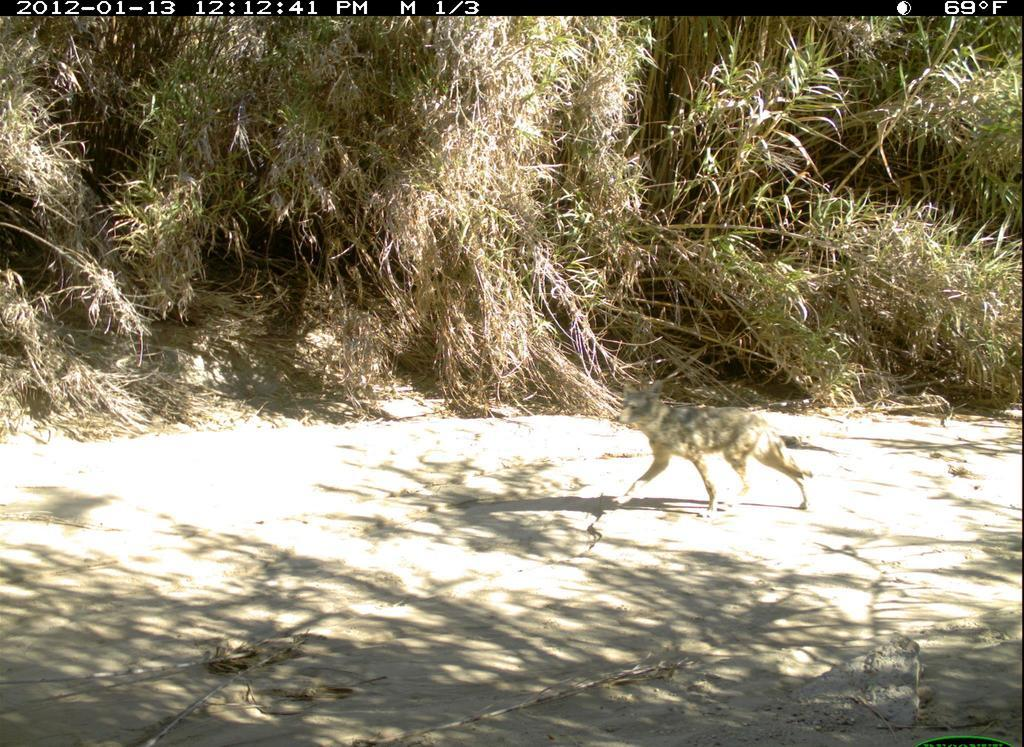coyote: (602, 373, 815, 529)
